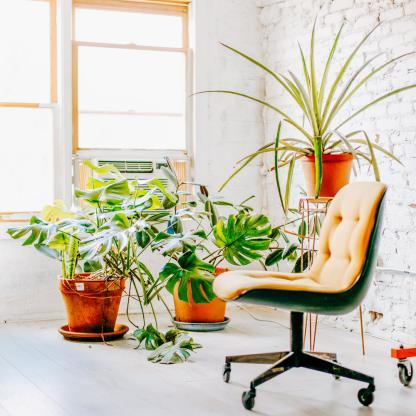chair: (211, 173, 395, 416)
